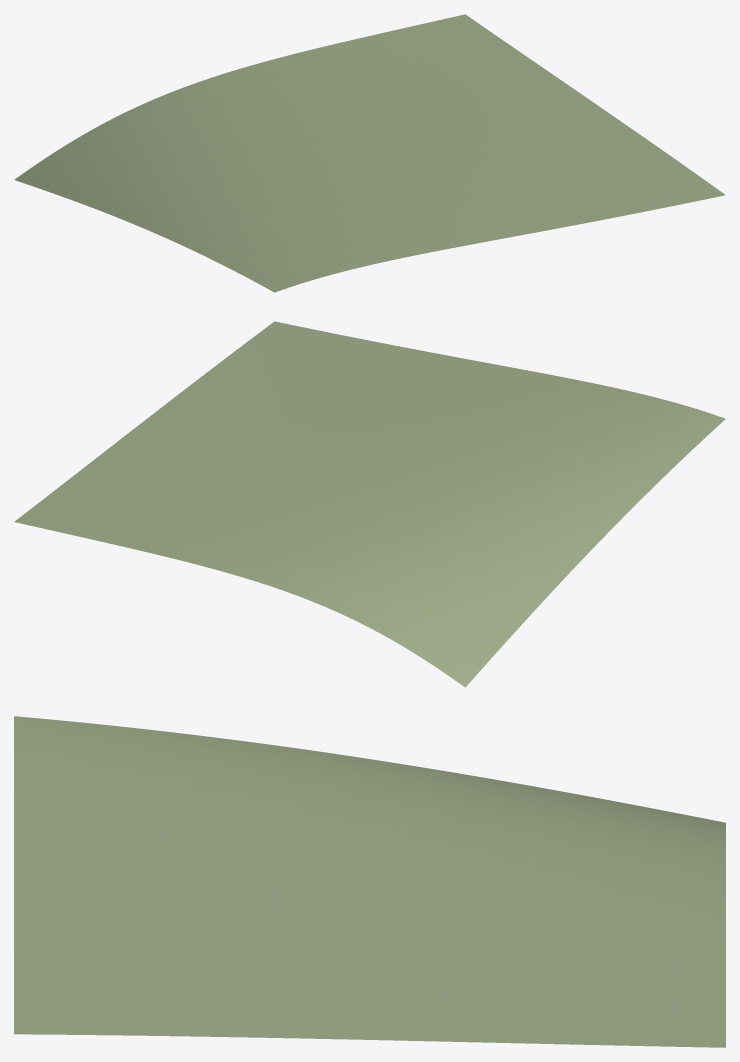
File: expanse-16-6.glb
3 views of the same model, one above another, from view 1: azimuth 30°, elevation 25°; view 2: azimuth 150°, elevation 25°; view 3: azimuth 270°, elevation 25° (orthographic). The views are drawn at different scales.
Visible parts, largest first — view 1: expanse-16-6; view 2: expanse-16-6; view 3: expanse-16-6.
Part boxes in pixels (x1,y1,x2,y2): expanse-16-6: (14,14,725,292); expanse-16-6: (14,321,725,687); expanse-16-6: (14,716,725,1047).
Bounding box in the file's own units: 256 × 44.62 × 256.
